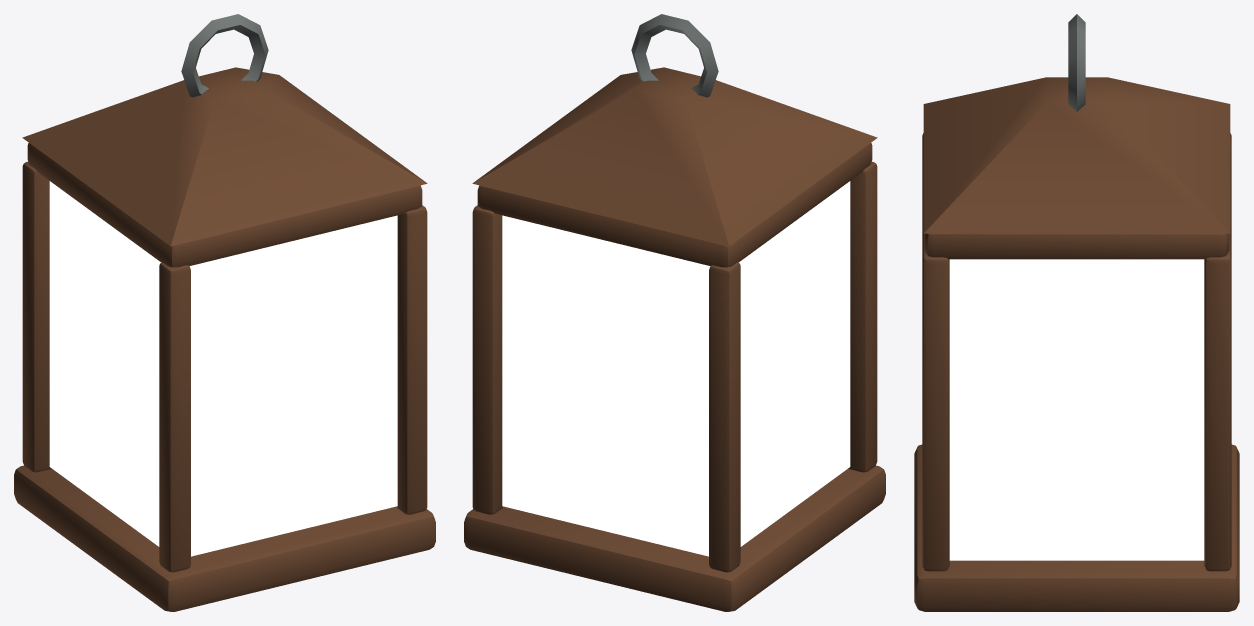
Rendered from lantern-ground.glb.
The picture shows the model from 3 angles, left to right: view 1: azimuth 30°, elevation 25°; view 2: azimuth 150°, elevation 25°; view 3: azimuth 270°, elevation 25°; orthographic projection. The views are drawn at different scales.
Visible parts, largest first — view 1: lantern-ground; view 2: lantern-ground; view 3: lantern-ground.
Part boxes in pixels (x1,y1,x2,y2): lantern-ground: [14, 14, 435, 611]; lantern-ground: [464, 14, 885, 611]; lantern-ground: [914, 14, 1239, 611].
Bounding box in the file's own units: 0.3 × 0.5357 × 0.3.
